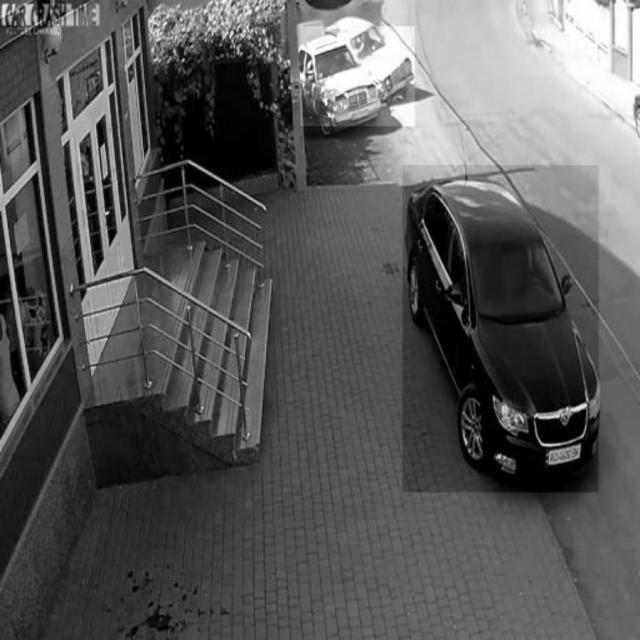accident: (300, 26, 416, 126)
vehicle: (403, 165, 599, 492)
